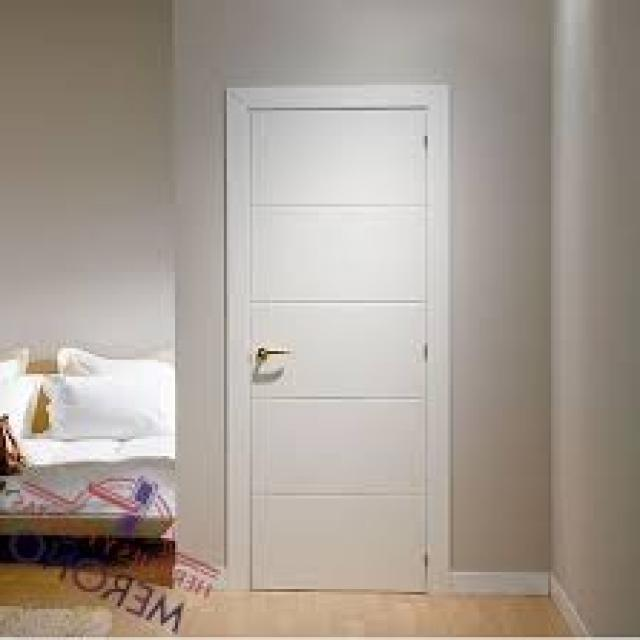door: (227, 86, 445, 594)
